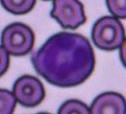E: (32, 32, 94, 86)
